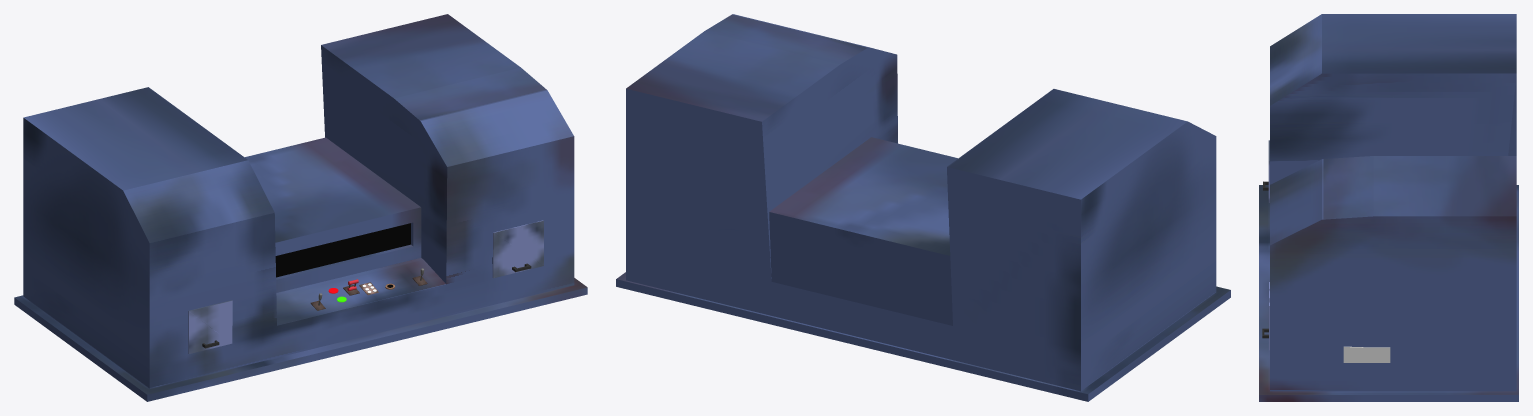
Rendered from mutator machine.glb.
3 views of the same model, side by side, from view 1: azimuth 30°, elevation 25°; view 2: azimuth 150°, elevation 25°; view 3: azimuth 270°, elevation 25° (orthographic). The views are drawn at different scales.
Visible parts, largest first — view 1: Cube, Cube.003, Cube.010; view 2: Cube; view 3: Cube, Cube.002.
Boxes of the visible parts, left/top/right/bottom form: Cube: left=14, top=14, right=587, bottom=401; Cube.003: left=492, top=220, right=543, bottom=278; Cube.010: left=188, top=300, right=232, bottom=353; Cube: left=616, top=14, right=1230, bottom=401; Cube: left=1259, top=14, right=1518, bottom=401; Cube.002: left=1343, top=346, right=1390, bottom=362.
Bounding box in the file's own units: 4.05 × 1.63 × 2.12.
15 materials, 7 textured.
